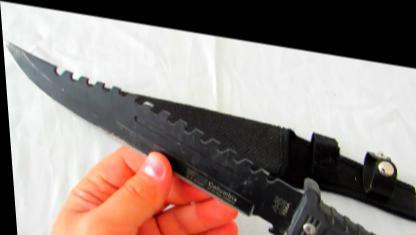knife: (1, 31, 415, 233)
